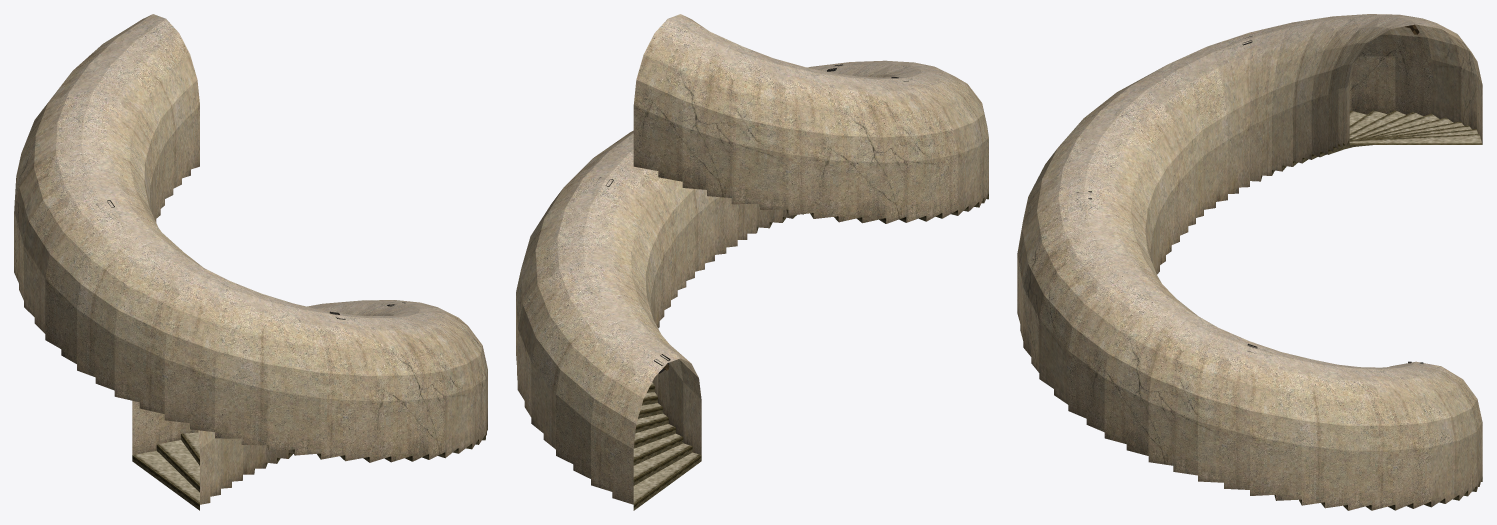
Rendered from thm_tato_jabbas_palace_r8_stairs3_mesh_r8.fbx.
The picture shows the model from 3 angles, left to right: view 1: azimuth 30°, elevation 25°; view 2: azimuth 150°, elevation 25°; view 3: azimuth 270°, elevation 25°; orthographic projection. The views are drawn at different scales.
Parts seen in each view (by area): view 1: mesh_node; view 2: mesh_node; view 3: mesh_node.
Part boxes in pixels (box(x1,y1,x2,y2)): mesh_node: box(14, 14, 487, 510); mesh_node: box(516, 14, 988, 510); mesh_node: box(1017, 14, 1482, 510).
Bounding box in the file's own units: 14 × 15.2 × 14.
